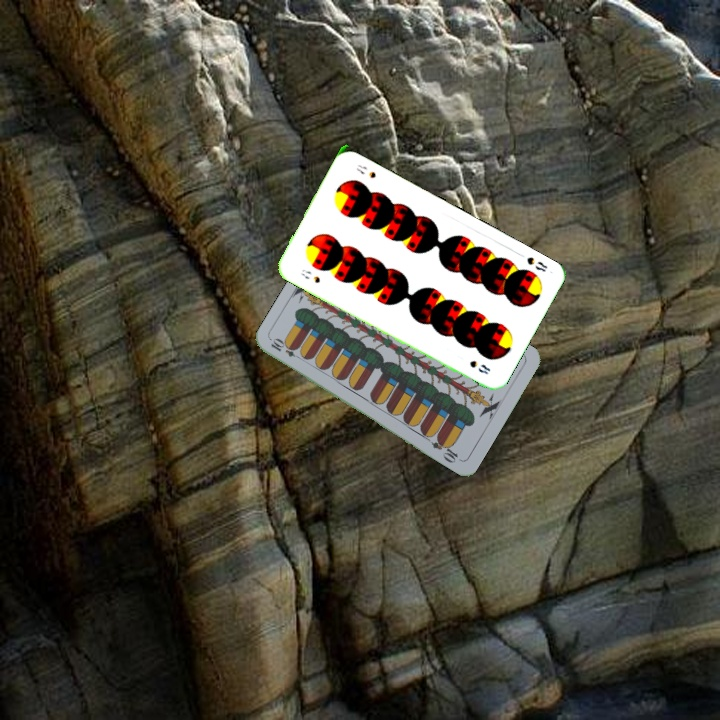E10: (267, 335, 305, 362)
S8: (523, 253, 550, 275), (296, 265, 323, 286)
